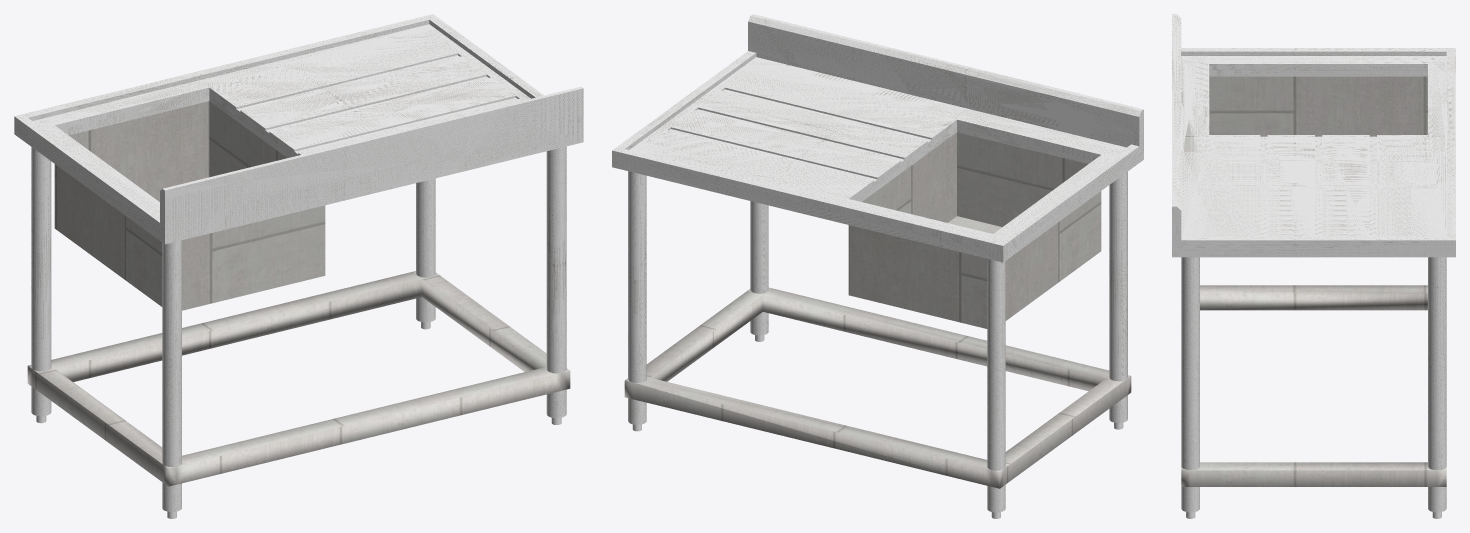
3 renders of one model, left to right at view 1: azimuth 30°, elevation 25°; view 2: azimuth 150°, elevation 25°; view 3: azimuth 270°, elevation 25°, orthographic. The views are drawn at different scales.
Visible parts, largest first — view 1: mesh1_mesh1-geometry; view 2: mesh1_mesh1-geometry; view 3: mesh1_mesh1-geometry.
Boxes of the visible parts, x1=… form: mesh1_mesh1-geometry: x1=14, y1=14, x2=583, y2=518; mesh1_mesh1-geometry: x1=612, y1=14, x2=1143, y2=518; mesh1_mesh1-geometry: x1=1172, y1=14, x2=1455, y2=518.
Size of the model in its own units: 0.7104 by 0.5473 by 0.4425.
